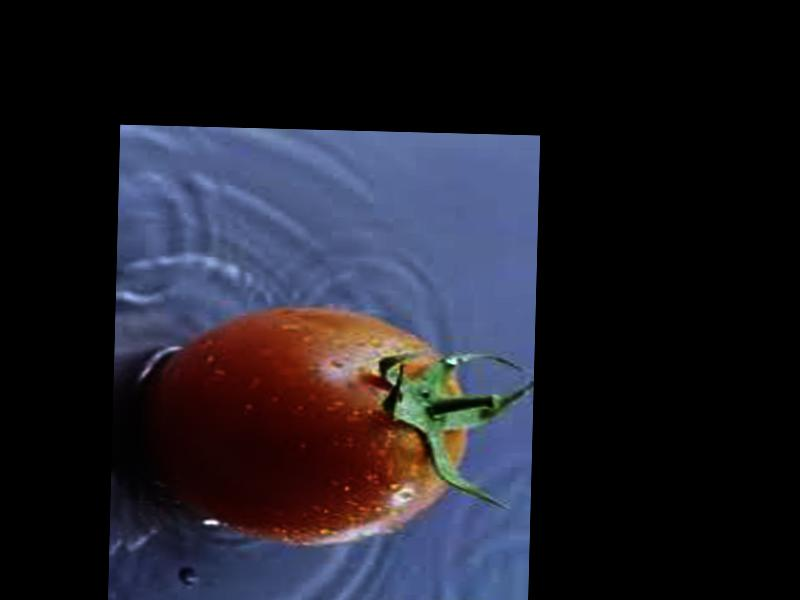Tomato: (137, 304, 468, 545)
